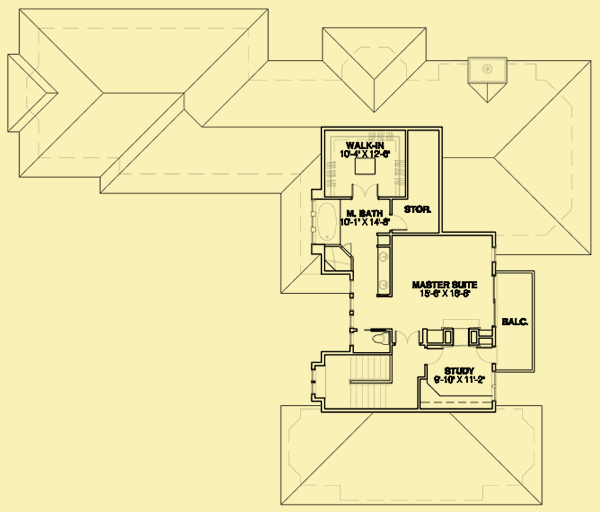door: (350, 182, 383, 201), (424, 346, 447, 367), (390, 212, 408, 234), (474, 345, 496, 363), (393, 331, 420, 345)
large_sink: (370, 332, 390, 347)
small_sink: (376, 246, 390, 298)
stairs: (325, 353, 389, 412)
tub: (312, 199, 340, 244)
